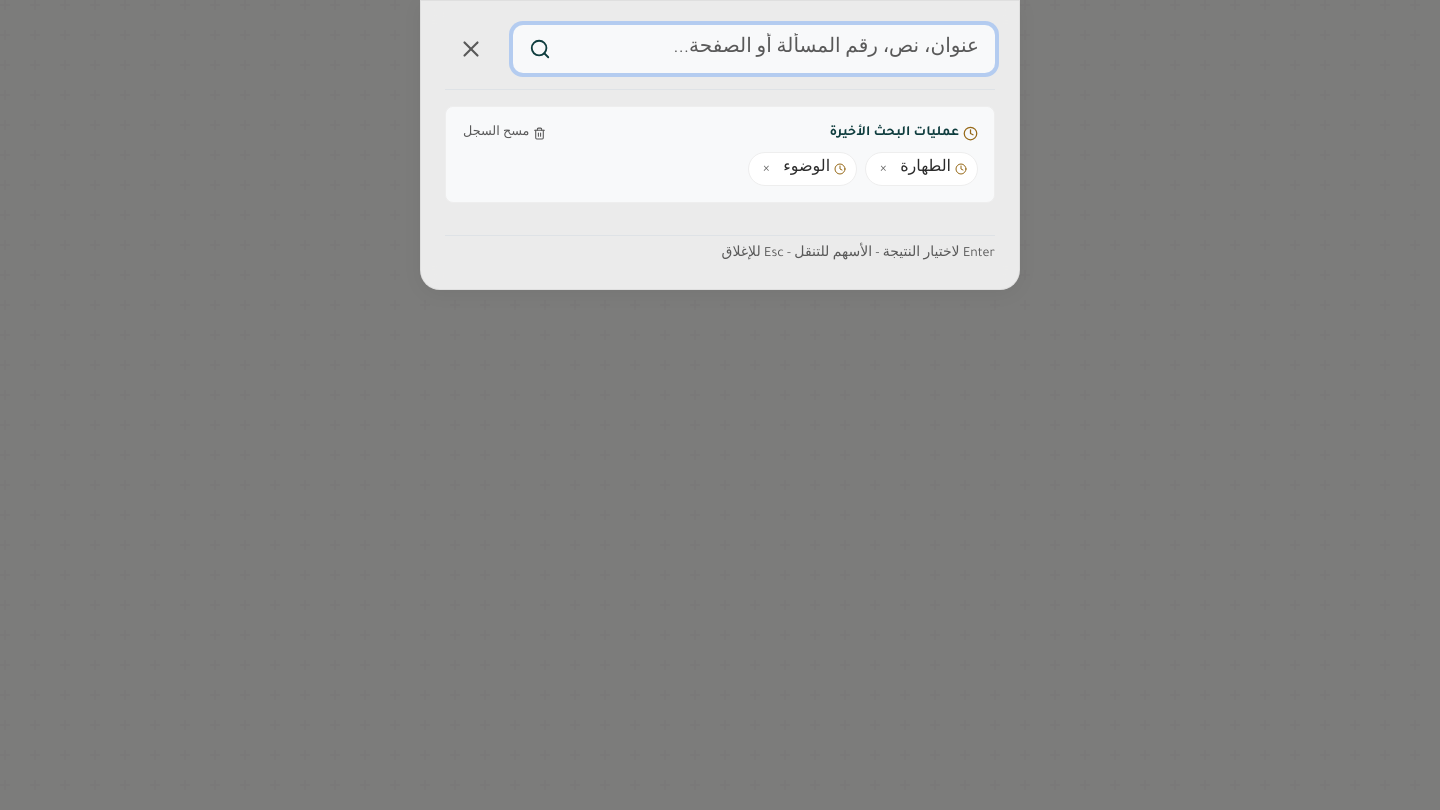
Test: SearchModal Component › حذف عنصر محدد من السجل يزيله من القائمة والتخزين
Click the button named "حذف \"الطهارة\" من السجل" at (883, 169), box top-left (874, 160), bottom-right (892, 178)
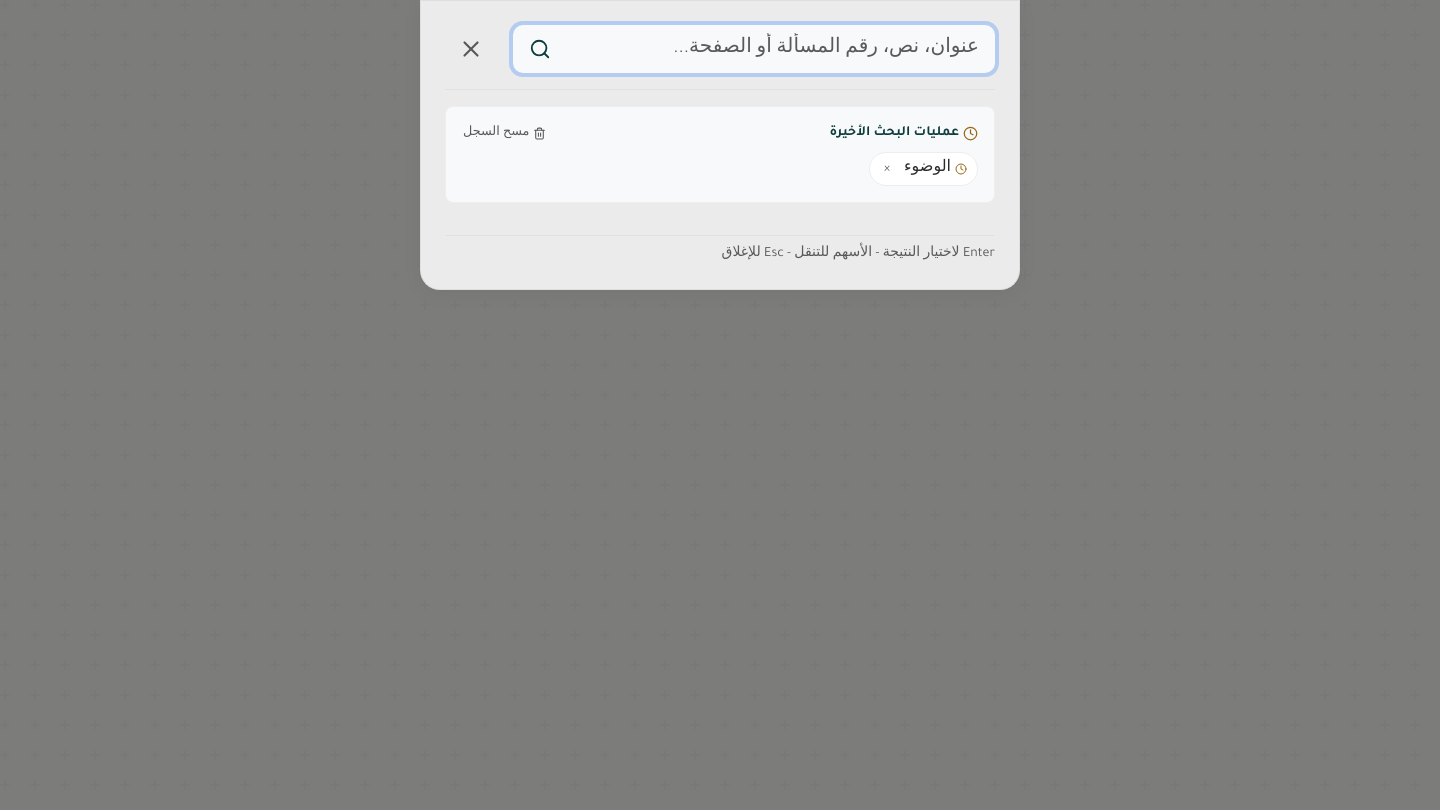
expect the text "الوضوء" is shown: met, box top-left (904, 157), bottom-right (951, 181)
expect the button "الطهارة" is gone: met
